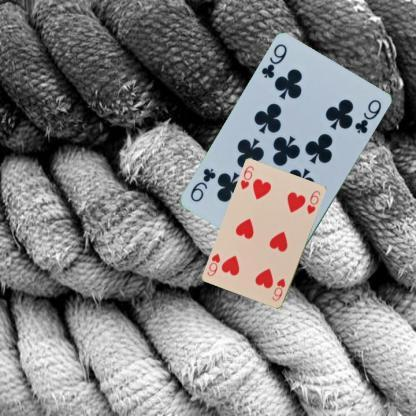6h: (237, 164, 256, 190), (270, 275, 286, 302)
9c: (259, 41, 288, 80)
